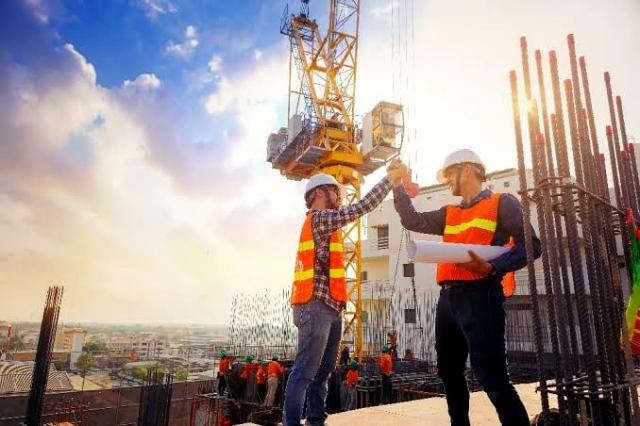helmet: (426, 146, 508, 182), (294, 165, 348, 199)
vest: (430, 201, 536, 291), (280, 211, 358, 324)
